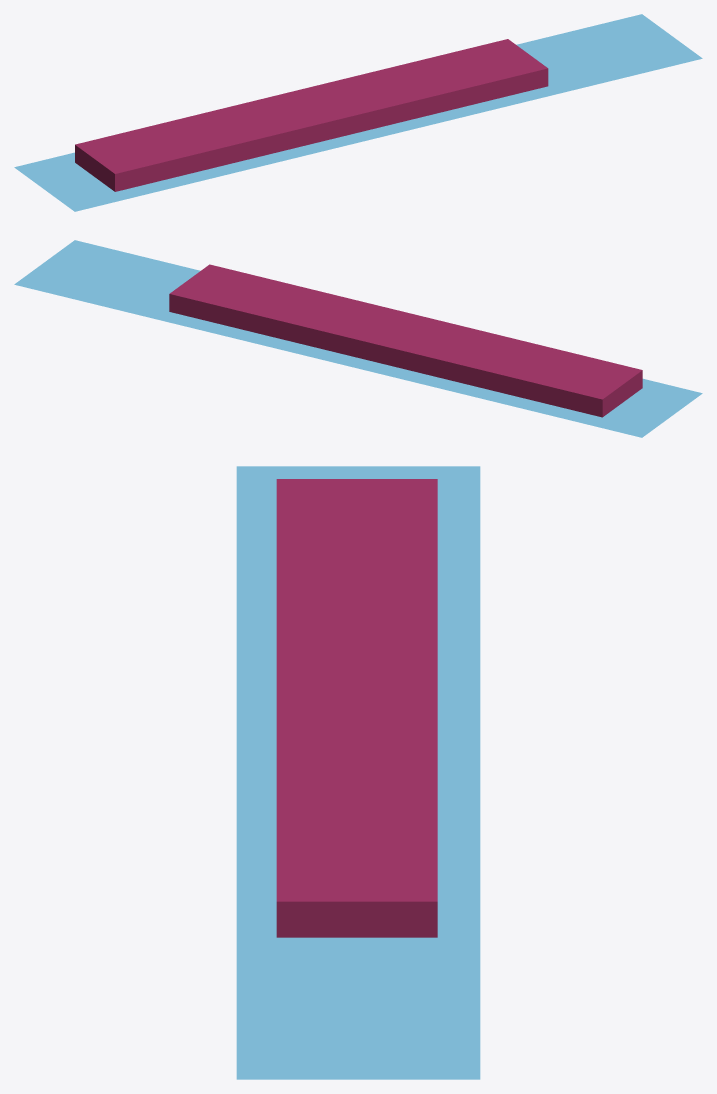
File: bar2.gltf
The picture shows the model from 3 angles, top to bottom: view 1: azimuth 30°, elevation 25°; view 2: azimuth 150°, elevation 25°; view 3: azimuth 270°, elevation 25°; orthographic projection. The views are drawn at different scales.
Parts seen in each view (by area): view 1: Cube, Plane; view 2: Cube, Plane; view 3: Plane, Cube.
Boxes of the visible parts, x1,y1,x2,y2 form: Cube: [75, 39, 548, 191]; Plane: [14, 14, 702, 211]; Cube: [169, 264, 642, 417]; Plane: [14, 240, 702, 437]; Plane: [236, 466, 480, 1079]; Cube: [276, 479, 437, 937].
Bounding box in the file's own units: 11.91 × 0.3312 × 2.
2 materials, 2 textured.
